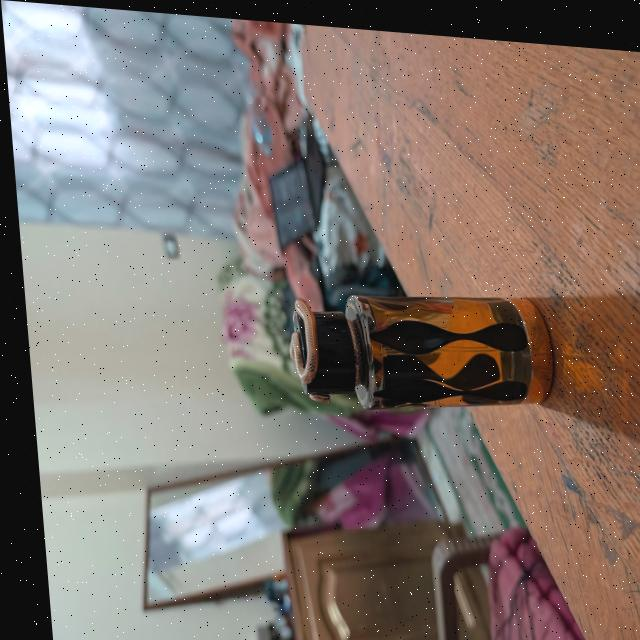Teriaq-Intense: (277, 271, 553, 420)
